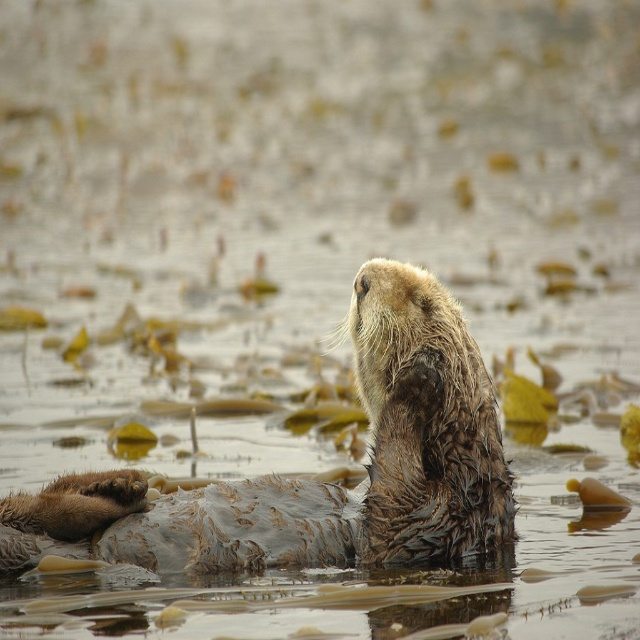Otter: (0, 254, 519, 583)
